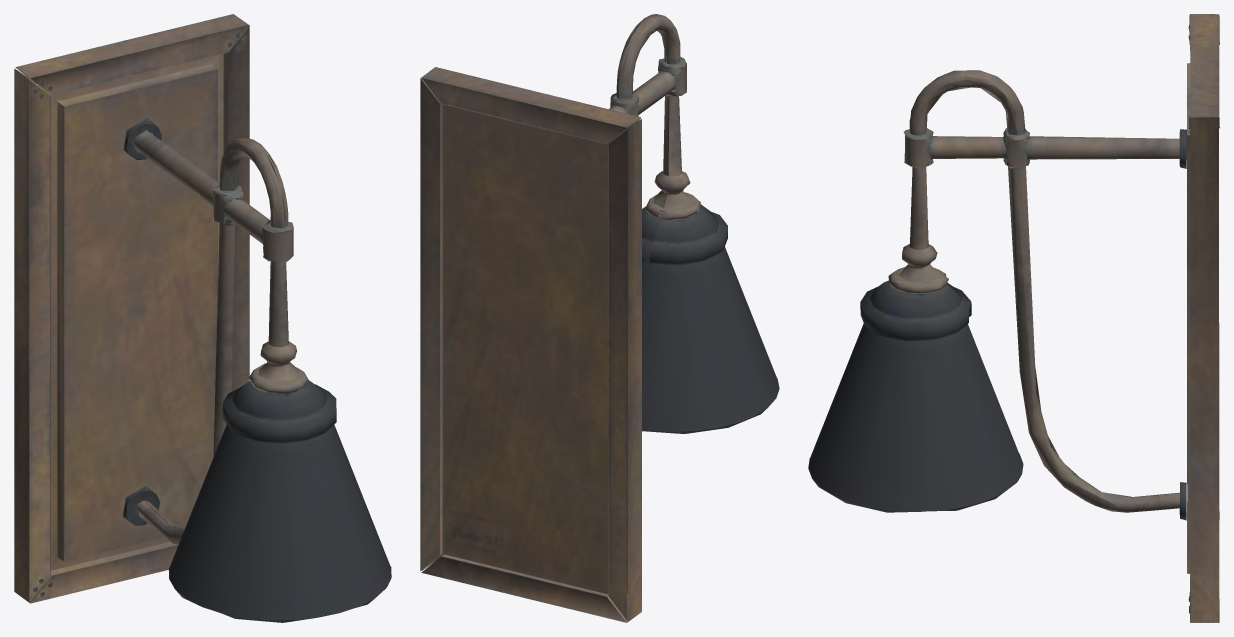
Rendered from isl_sconce.glb.
3 renders of one model, left to right at view 1: azimuth 30°, elevation 25°; view 2: azimuth 150°, elevation 25°; view 3: azimuth 270°, elevation 25°, orthographic. The views are drawn at different scales.
Parts seen in each view (by area): view 1: industrial_wall_sconce; view 2: industrial_wall_sconce; view 3: industrial_wall_sconce.
Boxes of the visible parts, box(x1,y1,x2,y2) form: industrial_wall_sconce: box(14, 14, 391, 622); industrial_wall_sconce: box(420, 14, 779, 622); industrial_wall_sconce: box(808, 14, 1219, 622).
Size of the model in its own units: 0.15 by 0.3418 by 0.2518.
Materials: 2 (2 with a texture image).
